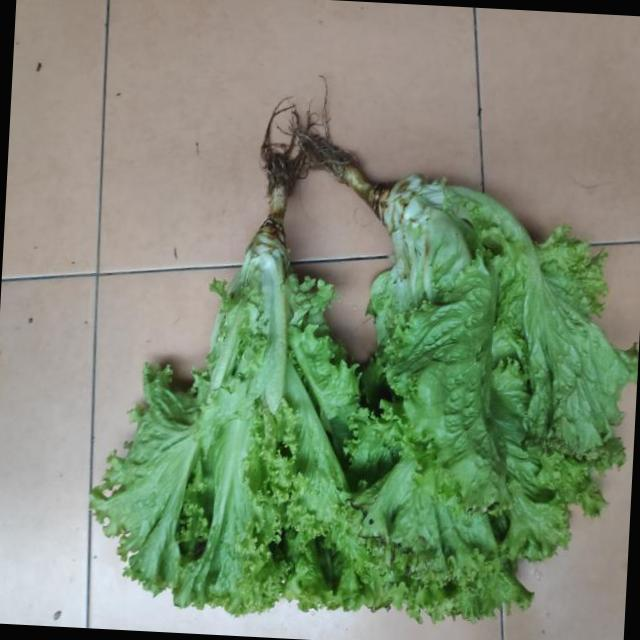Lettuce-Ready-to-Harvest: (346, 176, 639, 619), (91, 221, 385, 613)
